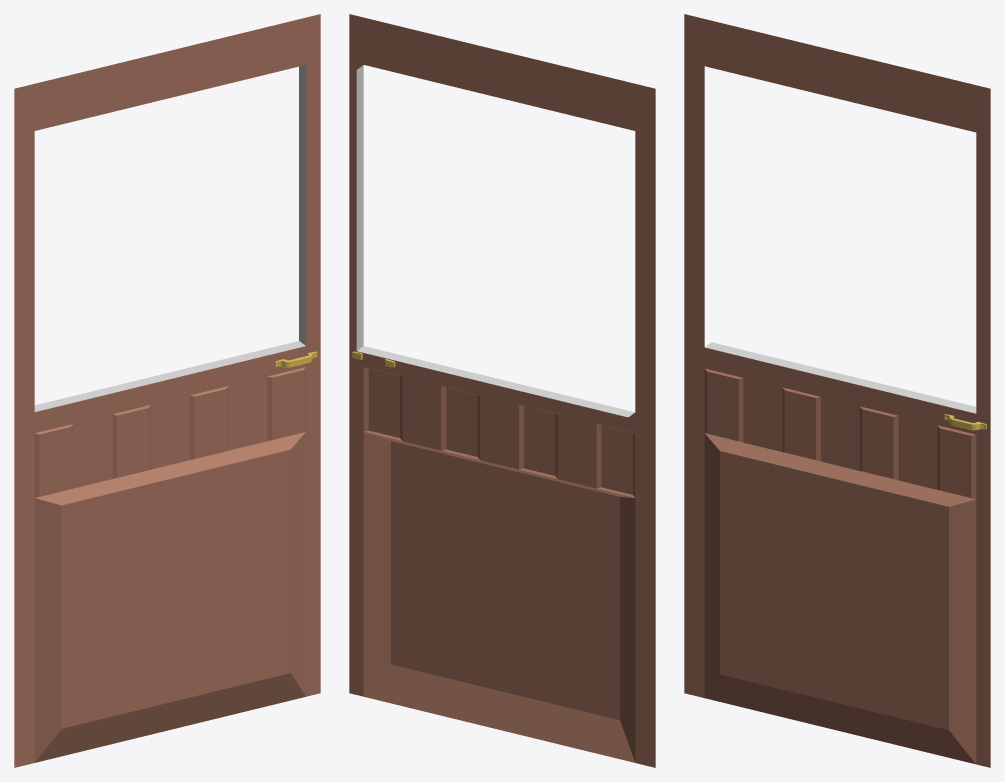
Rendered from porta.fbx.
The picture shows the model from 3 angles, left to right: view 1: azimuth 30°, elevation 25°; view 2: azimuth 150°, elevation 25°; view 3: azimuth 330°, elevation 25°; orthographic projection.
Visible parts, largest first — view 1: Cube.006; view 2: Cube.006; view 3: Cube.006.
Boxes of the visible parts, x1=… form: Cube.006: x1=14, y1=14, x2=320, y2=767; Cube.006: x1=349, y1=14, x2=655, y2=767; Cube.006: x1=684, y1=14, x2=990, y2=767.
Size of the model in its own units: 57.24 by 121 by 4.18.
